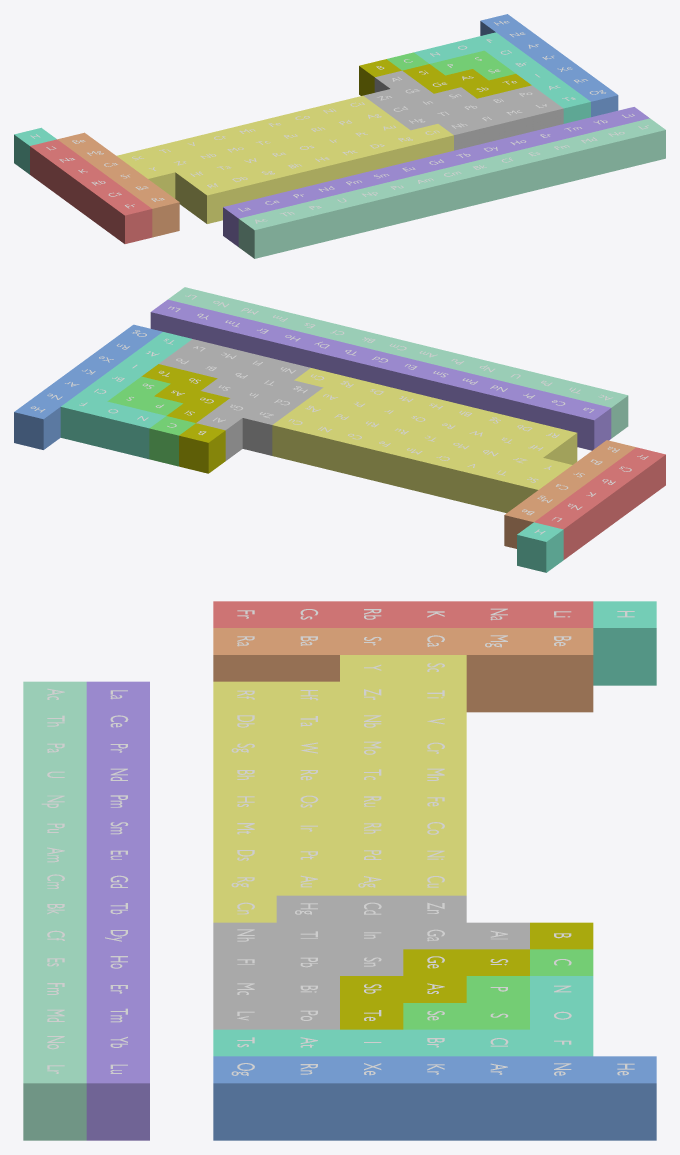
File: PeriodicTable.fbx
3 views of the same model, one above another, from view 1: azimuth 30°, elevation 25°; view 2: azimuth 150°, elevation 25°; view 3: azimuth 270°, elevation 25° (orthographic). The views are drawn at different scales.
Parts seen in each view (by area): view 1: Fr_box, Ac_box, Rf_box, Pu_box, Cm_box, Np_box, Es_box, No_box, Th_box, Lr_box, Pa_box, U_box (+106 smaller); view 2: H_box, B_box, He_box, La_box, Zn_box, V_box, N_box, F_box, Mn_box, Fe_box, O_box, C_box (+106 smaller); view 3: Lr_box, Kr_box, Lu_box, Ar_box, He_box, H_box, Rn_box, Be_box, Ne_box, Xe_box, Og_box, Mg_box (+106 smaller).
Boxes of the visible parts, x1,y1,x2,y2 form: Fr_box: [109, 197, 152, 243]; Ac_box: [238, 212, 281, 258]; Rf_box: [191, 177, 234, 223]; Pu_box: [376, 178, 419, 225]; Cm_box: [431, 165, 473, 211]; Np_box: [349, 185, 391, 231]; Es_box: [513, 145, 556, 191]; No_box: [595, 125, 638, 171]; Th_box: [266, 205, 309, 252]; Lr_box: [623, 118, 665, 164]; Pa_box: [294, 198, 336, 245]; U_box: [321, 192, 364, 238]; H_box: [517, 522, 563, 572]; B_box: [179, 423, 225, 473]; He_box: [14, 399, 60, 449]; La_box: [564, 400, 611, 450]; Zn_box: [242, 405, 288, 455]; V_box: [449, 456, 495, 506]; N_box: [119, 409, 165, 459]; F_box: [60, 394, 106, 444]; Mn_box: [390, 441, 436, 491]; Fe_box: [361, 434, 407, 484]; O_box: [90, 401, 136, 451]; C_box: [149, 416, 195, 466]; Lr_box: [23, 1056, 86, 1140]; Kr_box: [403, 1056, 466, 1140]; Lu_box: [86, 1056, 149, 1140]; Ar_box: [466, 1056, 529, 1140]; He_box: [593, 1056, 656, 1140]; H_box: [593, 601, 656, 685]; Rn_box: [276, 1056, 339, 1140]; Be_box: [530, 628, 593, 712]; Ne_box: [530, 1056, 593, 1140]; Xe_box: [340, 1056, 403, 1140]; Og_box: [213, 1056, 276, 1140]; Mg_box: [466, 628, 529, 712].
Bounding box in the file's own units: 1800 × 101 × 1000.
